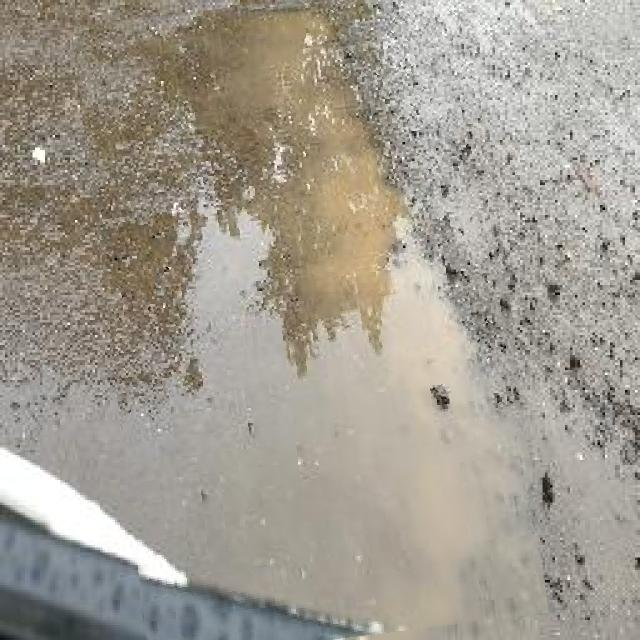puddle: (91, 1, 530, 640)
